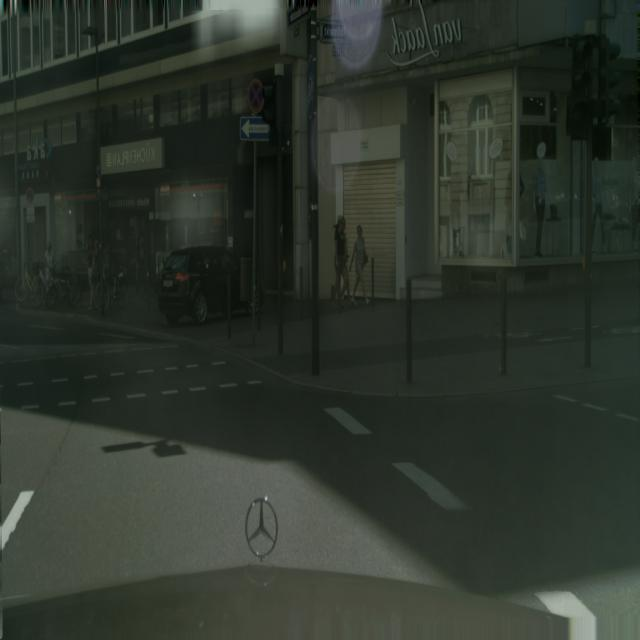car: (97, 252, 131, 315), (43, 259, 80, 316), (15, 253, 44, 314)
person: (332, 216, 353, 309), (350, 225, 369, 304), (85, 235, 95, 309), (44, 240, 55, 284)
truck: (157, 244, 240, 327)
